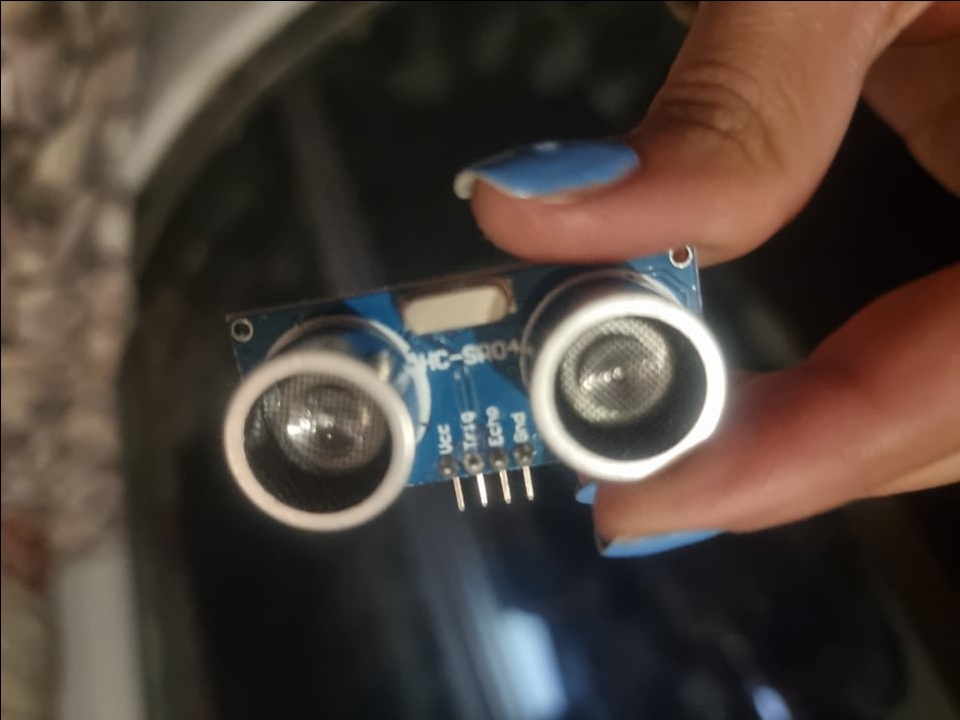SENSOR: (211, 244, 742, 533)
